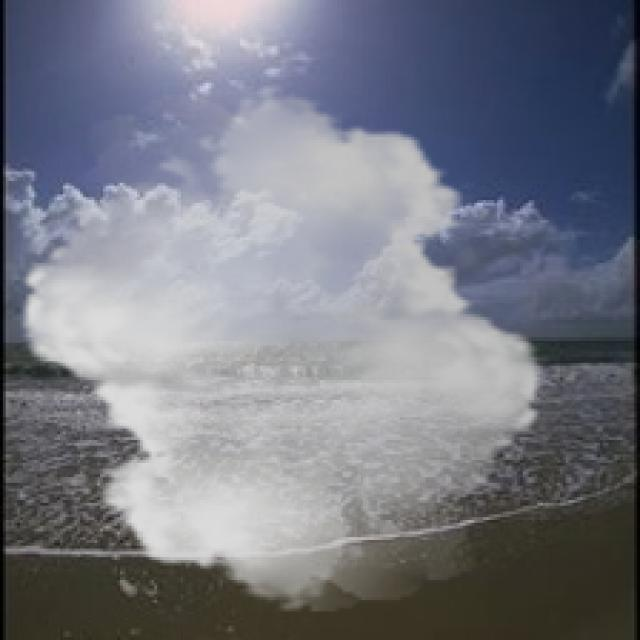smoke: (0, 83, 563, 611)
